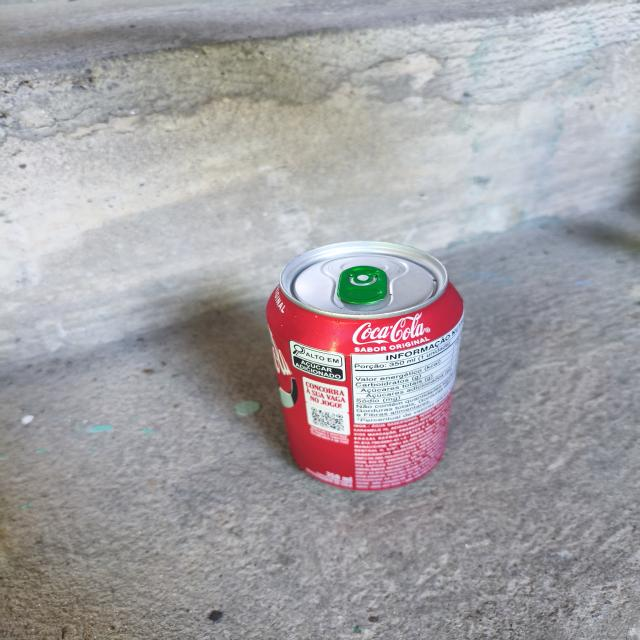Coca Cola: (266, 240, 460, 488)
